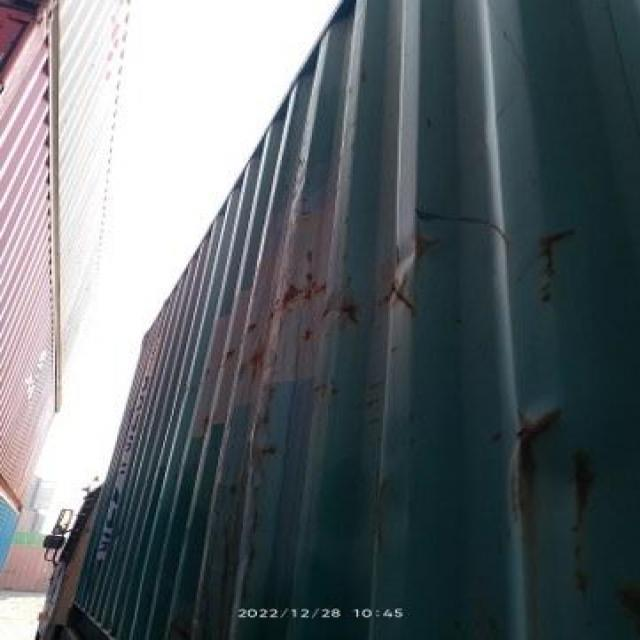Rust: (527, 233, 594, 309), (511, 420, 567, 504), (316, 274, 412, 315), (237, 331, 275, 395)
